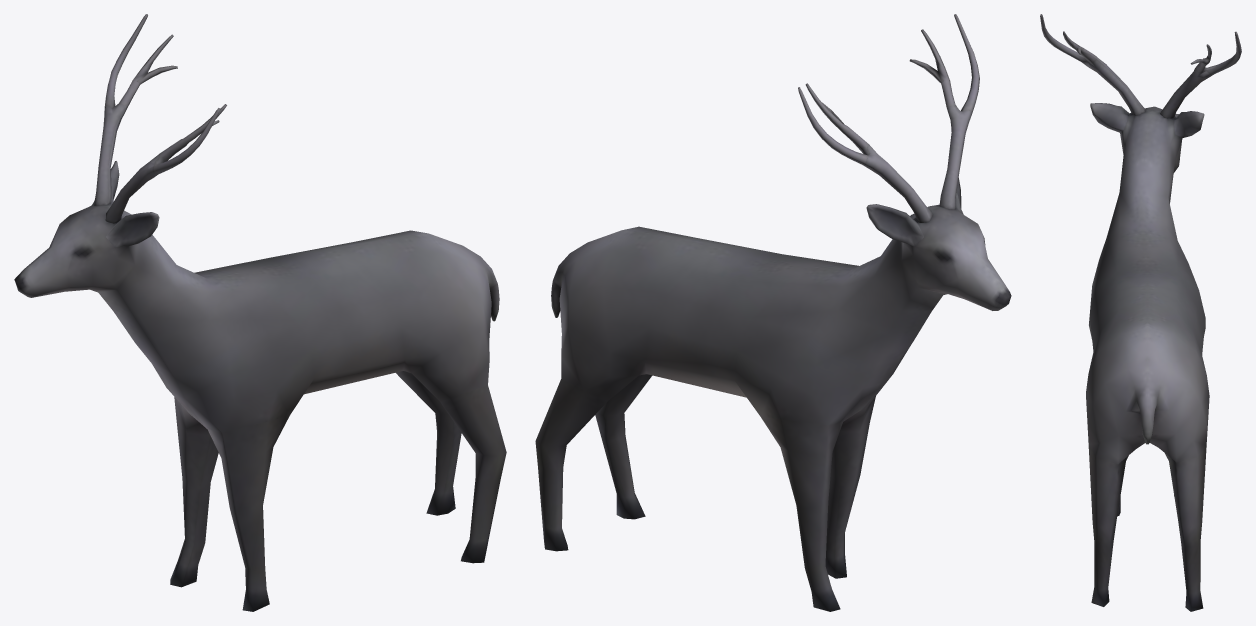
File: Game.glb
The picture shows the model from 3 angles, left to right: view 1: azimuth 30°, elevation 25°; view 2: azimuth 150°, elevation 25°; view 3: azimuth 270°, elevation 25°; orthographic projection. The views are drawn at different scales.
Parts seen in each view (by area): view 1: low; view 2: low; view 3: low.
Boxes of the visible parts, left/top/right/bottom form: low: left=14, top=14, right=506, bottom=611; low: left=535, top=14, right=1011, bottom=611; low: left=1040, top=14, right=1241, bottom=611.
Bounding box in the file's own units: 3.4 × 3.81 × 1.49.
1 material, 1 textured.
